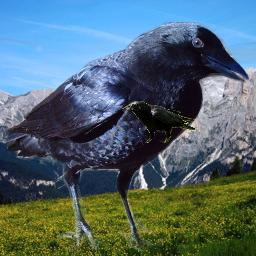Crow: (7, 22, 250, 255), (122, 101, 195, 143)
